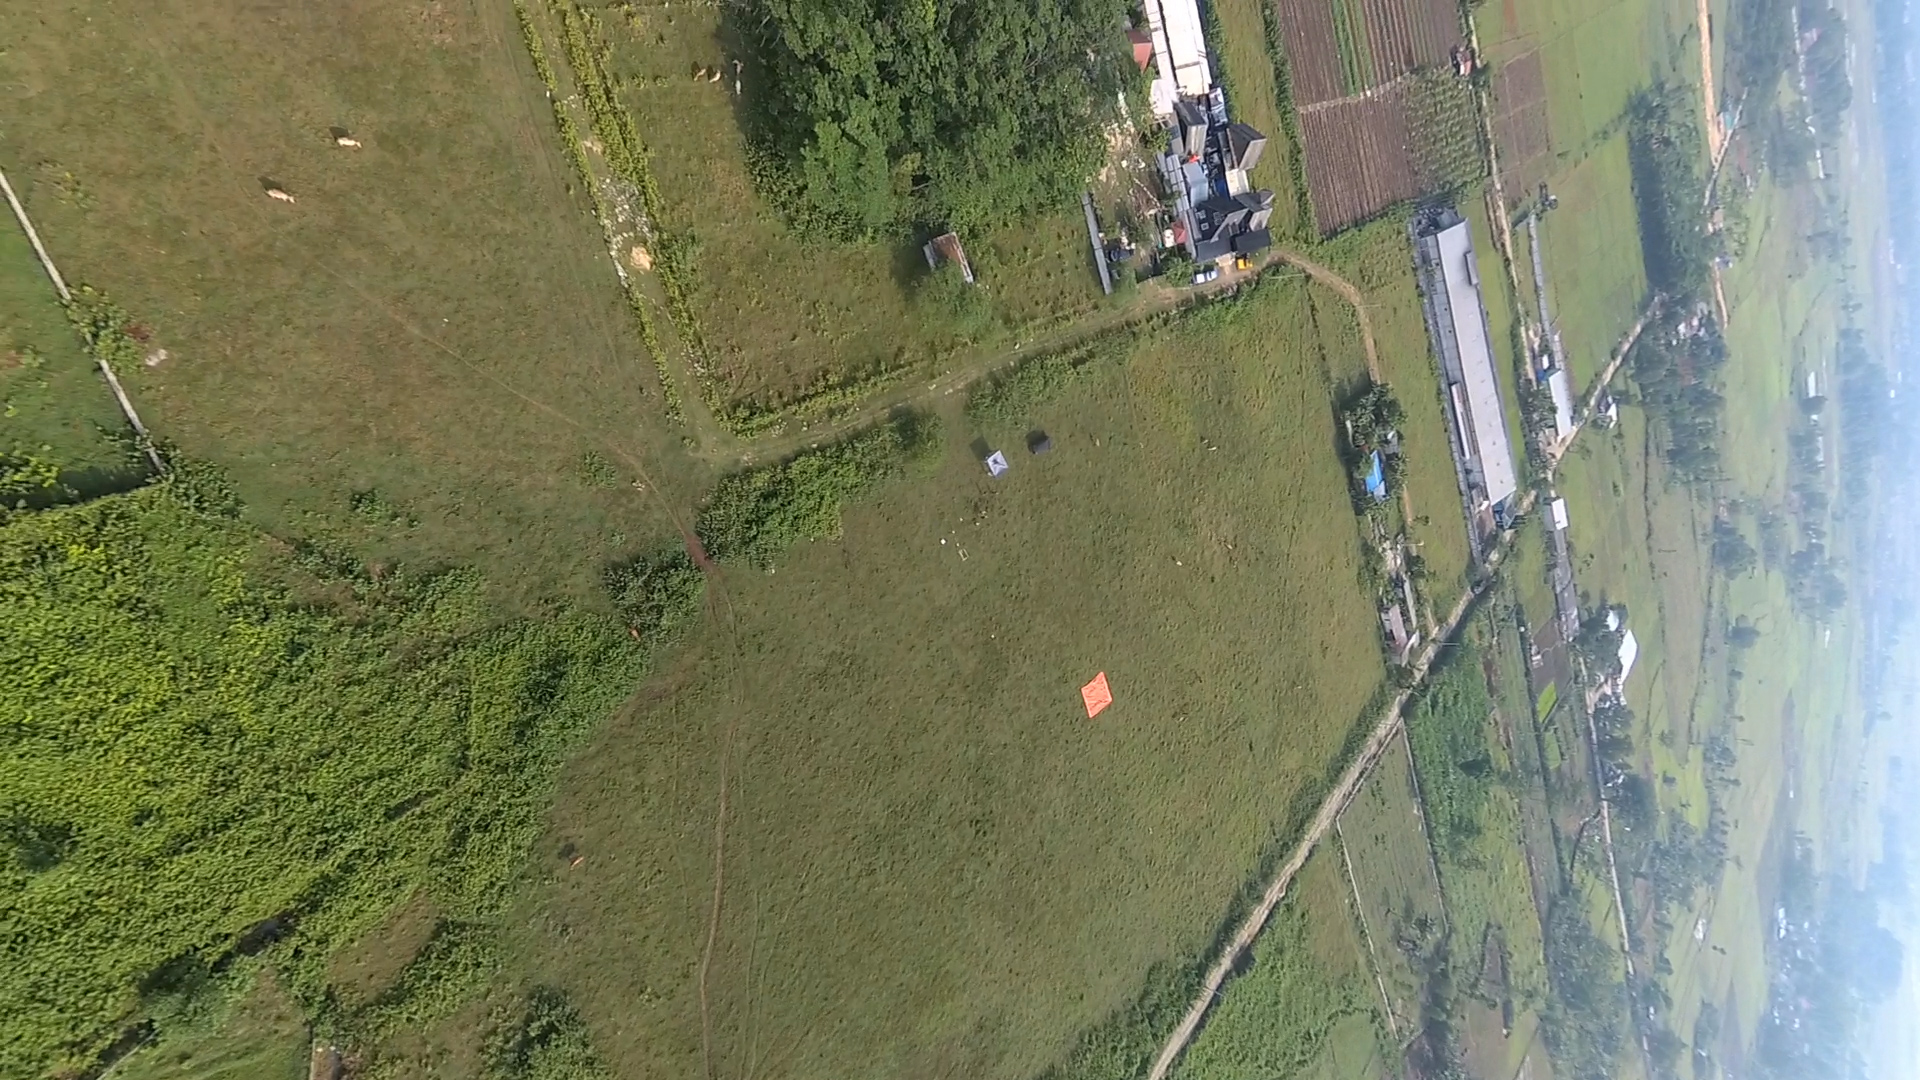Orange Dropzone: (1079, 669, 1116, 721)
